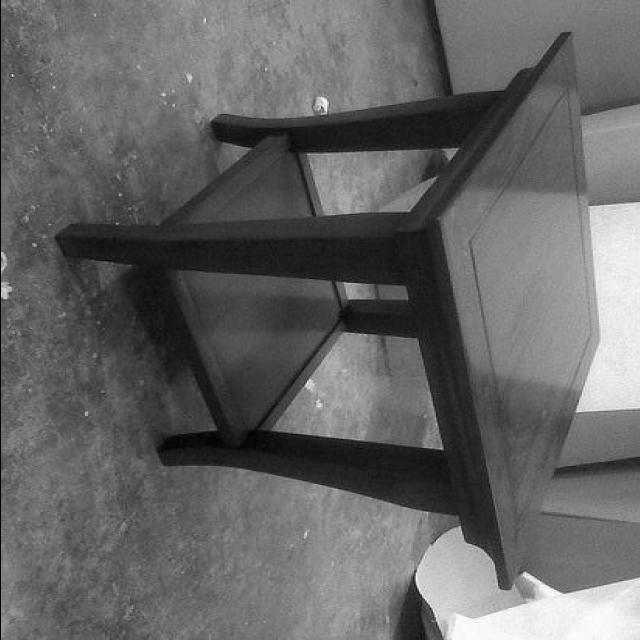table: (54, 32, 598, 590)
